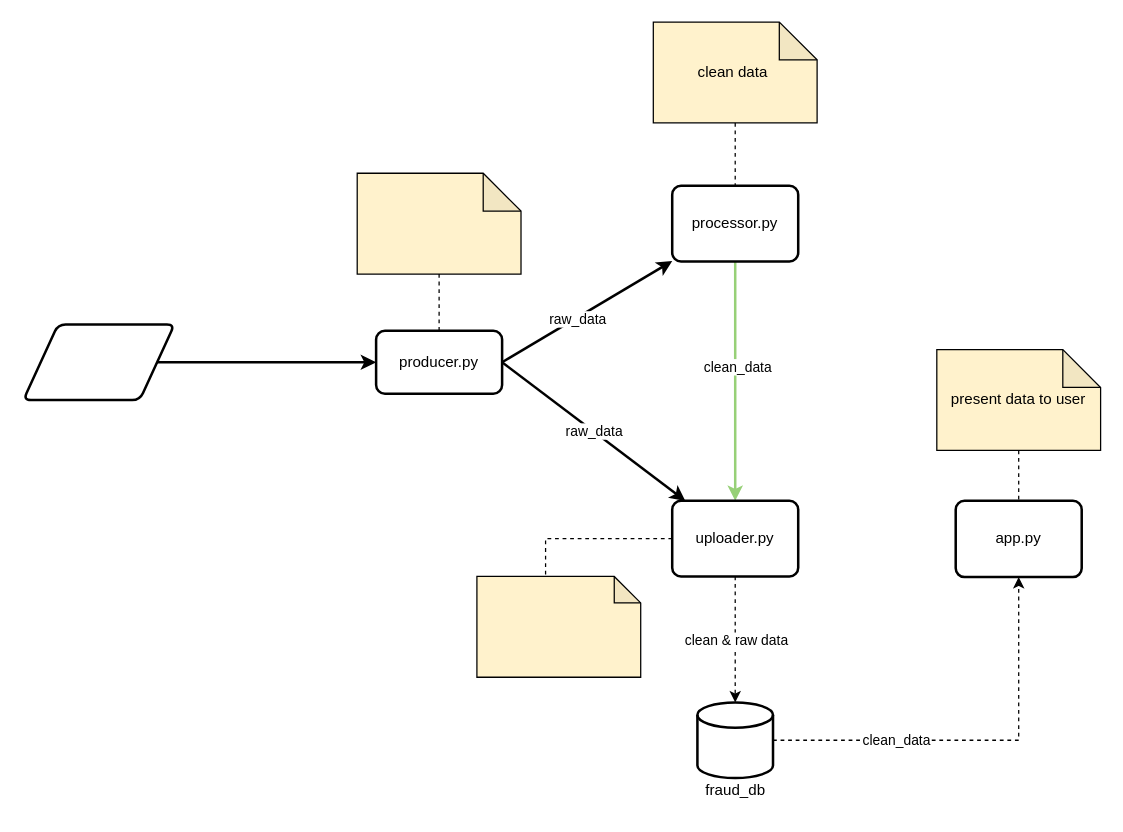
The diagram is 1123 pixels wide and 832 high, and some of its shapes have lost their labels. The box of each missing label's shape, as (x1, y1, x2, y2) in pixels:
fraudData.csv: (21, 323, 175, 401)
load data from CSV: (356, 172, 521, 274)
load raw and processed data to DB: (476, 575, 641, 677)
